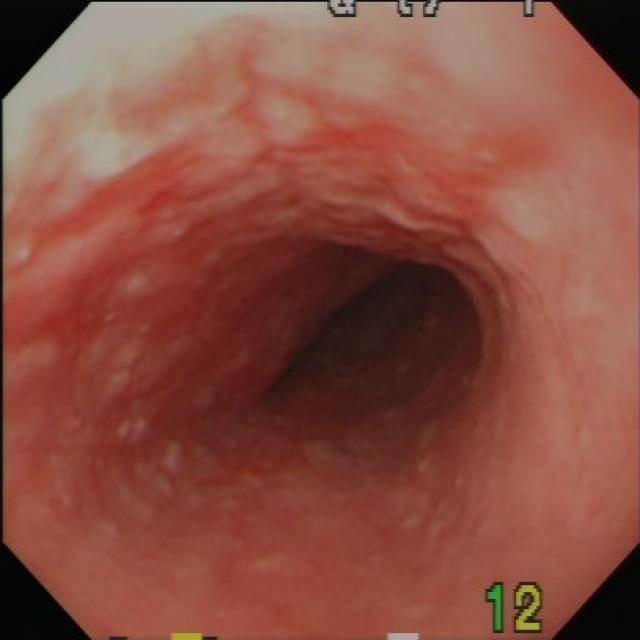A: (4, 56, 522, 316), (58, 271, 220, 535), (221, 422, 487, 530)
E: (269, 261, 483, 419)
S: (485, 581, 547, 636), (325, 3, 545, 18)
